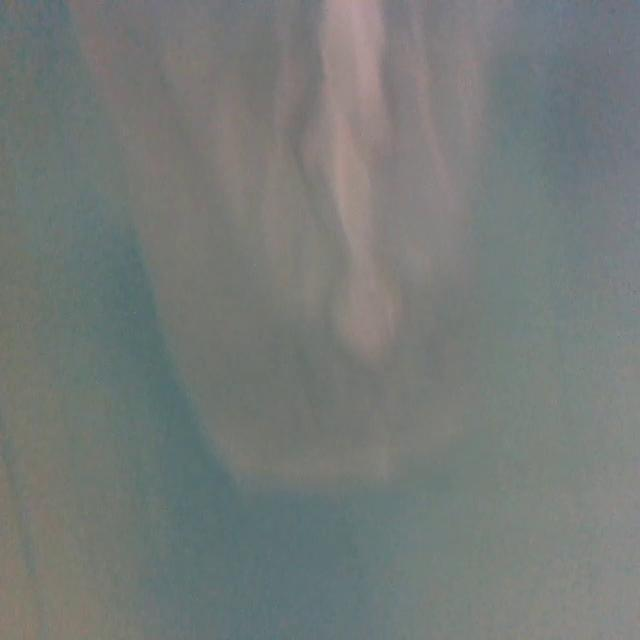plastic bags: (108, 1, 506, 504)
